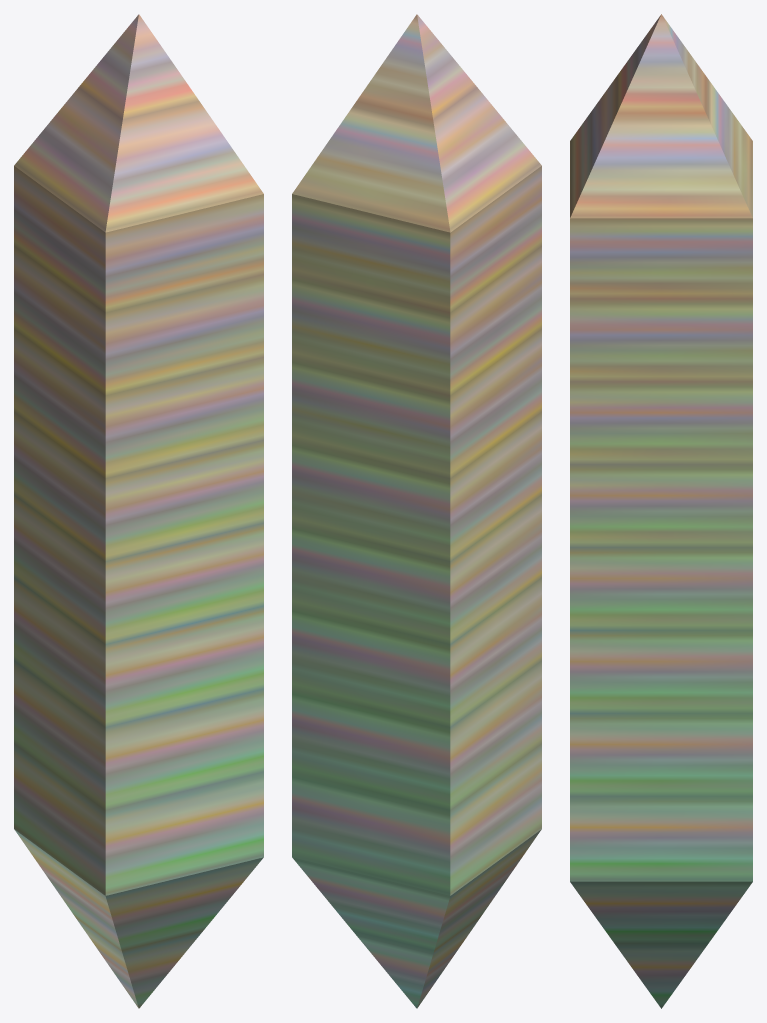
Rendered from station_mastery_crystal_frontleft.obj.
3 views of the same model, side by side, from view 1: azimuth 30°, elevation 25°; view 2: azimuth 150°, elevation 25°; view 3: azimuth 270°, elevation 25° (orthographic).
Parts seen in each view (by area): view 1: MASTERY_CRYSTAL_FRONTLEFT_Cube.042; view 2: MASTERY_CRYSTAL_FRONTLEFT_Cube.042; view 3: MASTERY_CRYSTAL_FRONTLEFT_Cube.042.
Part boxes in pixels (left/top/right/bottom): MASTERY_CRYSTAL_FRONTLEFT_Cube.042: left=14, top=14, right=263, bottom=1008; MASTERY_CRYSTAL_FRONTLEFT_Cube.042: left=292, top=14, right=541, bottom=1008; MASTERY_CRYSTAL_FRONTLEFT_Cube.042: left=570, top=14, right=752, bottom=1008.
Size of the model in its own units: 0.0625 by 0.375 by 0.0625.
